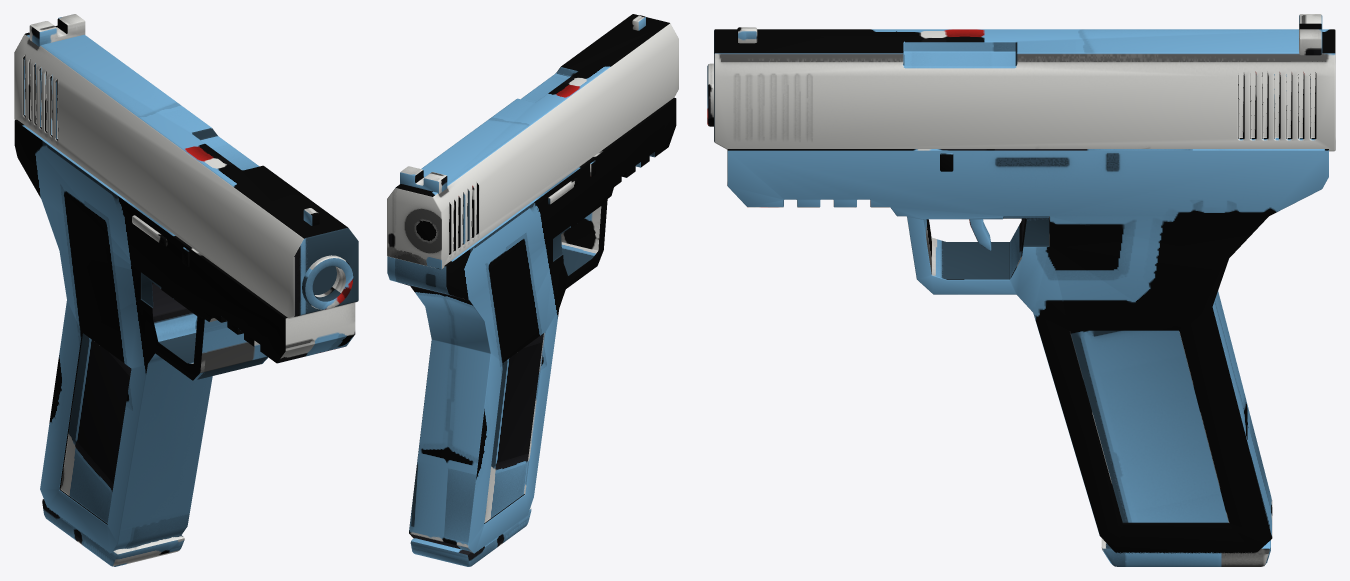
The model's file is ToyGunModel.obj.
3 renders of one model, left to right at view 1: azimuth 30°, elevation 25°; view 2: azimuth 150°, elevation 25°; view 3: azimuth 270°, elevation 25°, orthographic. The views are drawn at different scales.
Parts seen in each view (by area): view 1: ToyGunModel; view 2: ToyGunModel; view 3: ToyGunModel.
Part boxes in pixels (x1,y1,x2,y2): ToyGunModel: [14, 14, 358, 566]; ToyGunModel: [387, 14, 678, 566]; ToyGunModel: [707, 14, 1335, 566].
Size of the model in its own units: 0.0461 by 0.2784 by 0.3024.
Materials: 1 (1 with a texture image).
